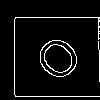O: (25, 25, 85, 86)
